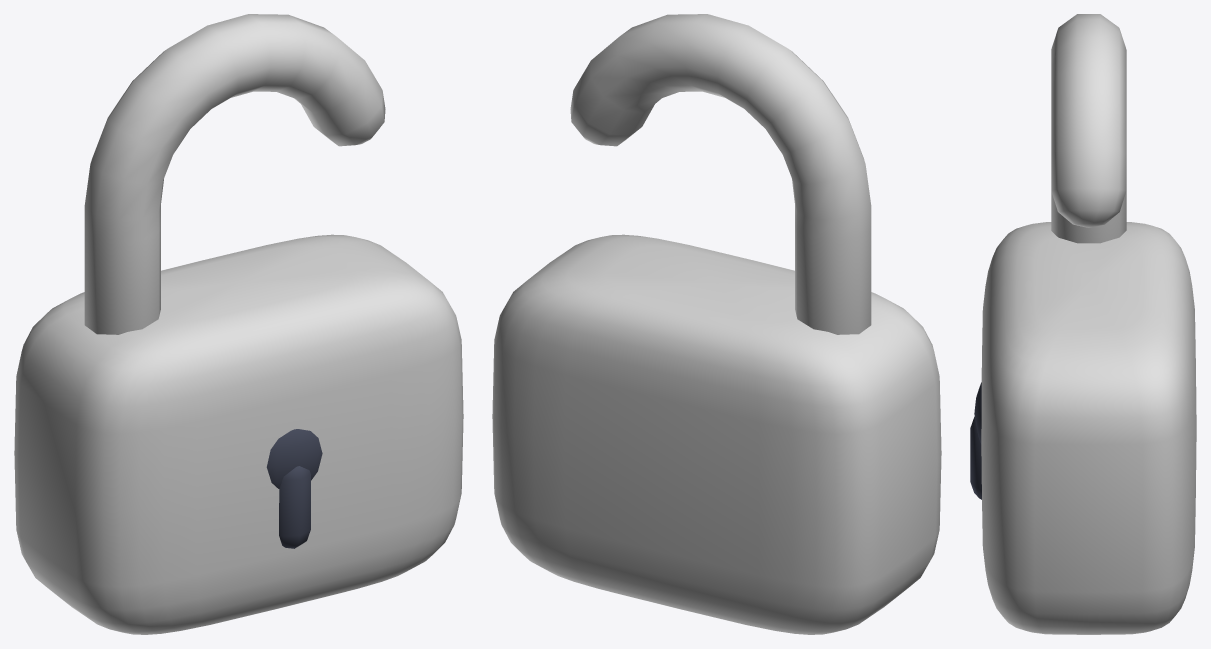
File: unlock.glb
3 renders of one model, left to right at view 1: azimuth 30°, elevation 25°; view 2: azimuth 150°, elevation 25°; view 3: azimuth 270°, elevation 25°, orthographic. The views are drawn at different scales.
Visible parts, largest first — view 1: unlock; view 2: unlock; view 3: unlock.
Boxes of the visible parts, <box> form: unlock: <box>14,14,463,634</box>; unlock: <box>492,14,941,634</box>; unlock: <box>970,14,1196,634</box>.
Size of the model in its own units: 0.7176 by 1 by 0.3767.
